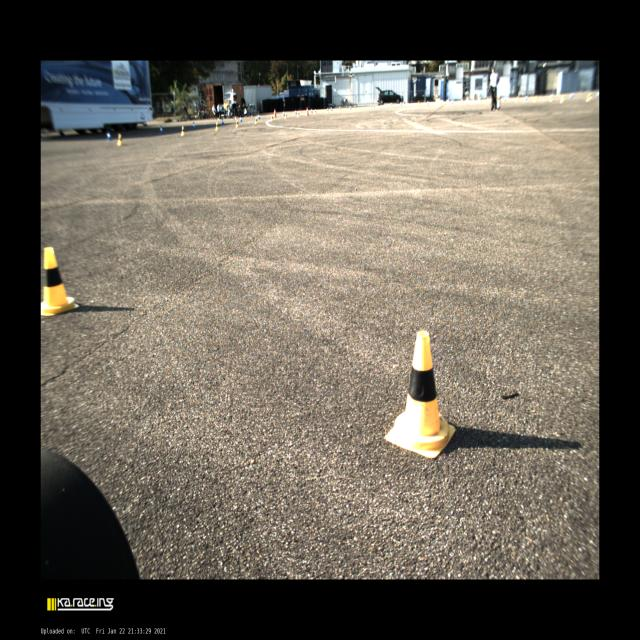blue_cone: (107, 131, 112, 141), (192, 122, 196, 130), (160, 124, 163, 134), (240, 116, 242, 122), (258, 114, 260, 119), (283, 111, 285, 116)
large_orange_cone: (306, 107, 308, 115), (274, 109, 276, 117)
yellow_cone: (386, 332, 454, 457), (41, 247, 79, 316), (118, 133, 122, 146), (181, 126, 185, 136), (215, 122, 219, 131), (255, 117, 258, 124), (236, 120, 238, 128), (285, 113, 287, 119), (271, 114, 273, 120), (297, 112, 300, 116), (314, 109, 316, 115)
